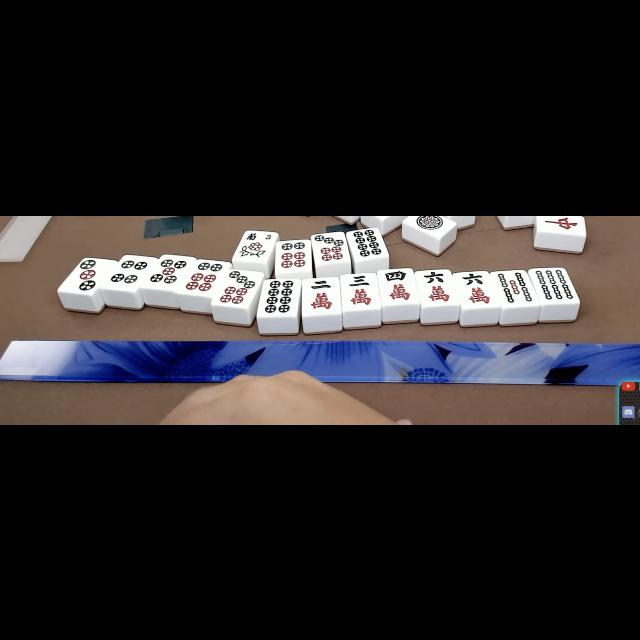b5: (498, 270, 532, 306)
b6: (534, 267, 576, 303)
c2: (302, 276, 340, 314)
c3: (342, 273, 378, 309)
c4: (380, 268, 416, 304)
c6: (420, 270, 454, 304), (458, 272, 492, 306)
d1: (409, 215, 449, 235)
d3: (66, 256, 108, 294)
d4: (103, 256, 149, 288)
d5: (148, 255, 188, 287)
d6: (184, 260, 222, 294), (278, 239, 310, 271)
d7: (214, 268, 260, 308), (314, 232, 348, 264)
d8: (262, 278, 298, 316), (351, 228, 384, 258)
dr: (538, 215, 582, 233)
f3: (238, 230, 276, 242)
